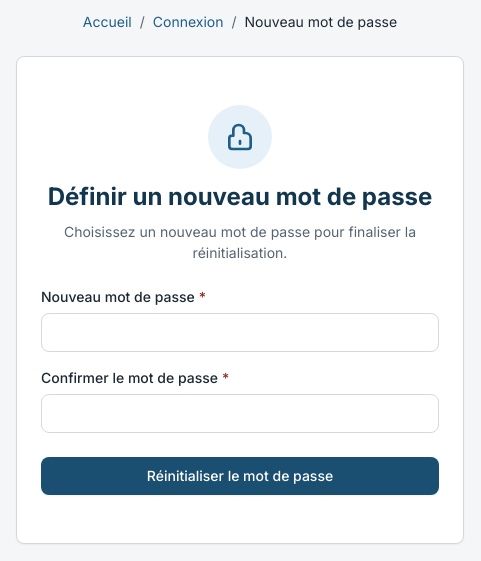
Scenario: ResetPasswordConfirmPage › réinitialise le mot de passe avec un token
This screenshot has width=481, height=561.
Type "Password1!" into the password field labelled "Nouveau mot de passe*" at (240, 332), box top-left (41, 313), bottom-right (439, 352)
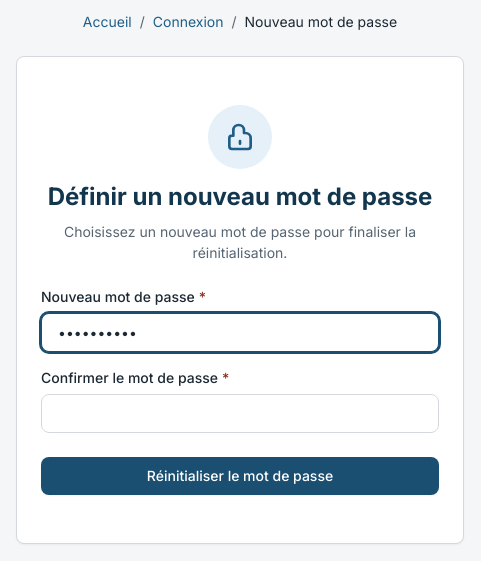
Type "Password1!" into the password field labelled "Confirmer le mot de passe*" at (240, 414), box top-left (41, 394), bottom-right (439, 433)
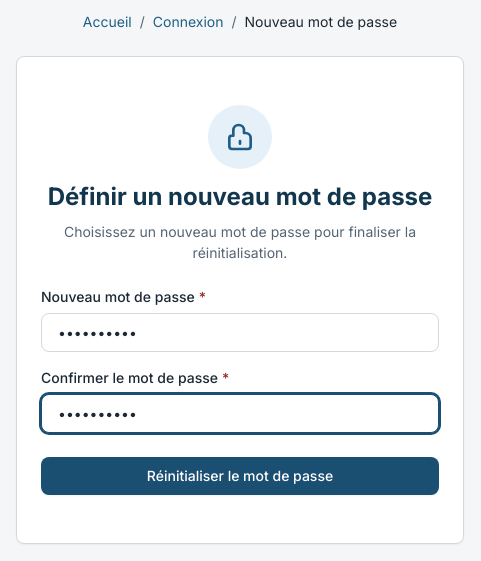
Click the button "Réinitialiser le mot de passe" at (240, 476), box top-left (41, 457), bottom-right (439, 495)
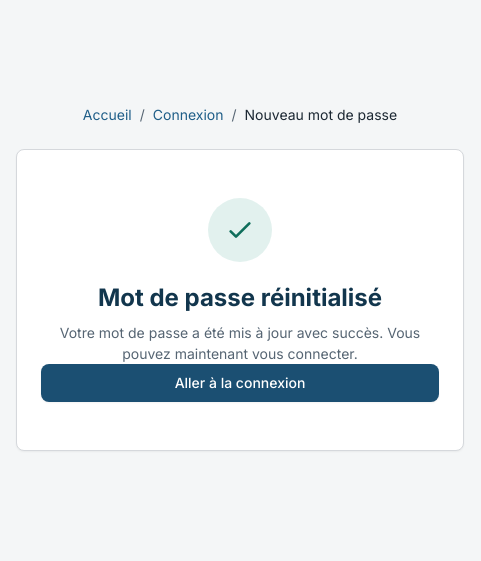
Expected: the heading "Mot de passe réinitialisé" is shown, top-left (98, 283), bottom-right (382, 312)
